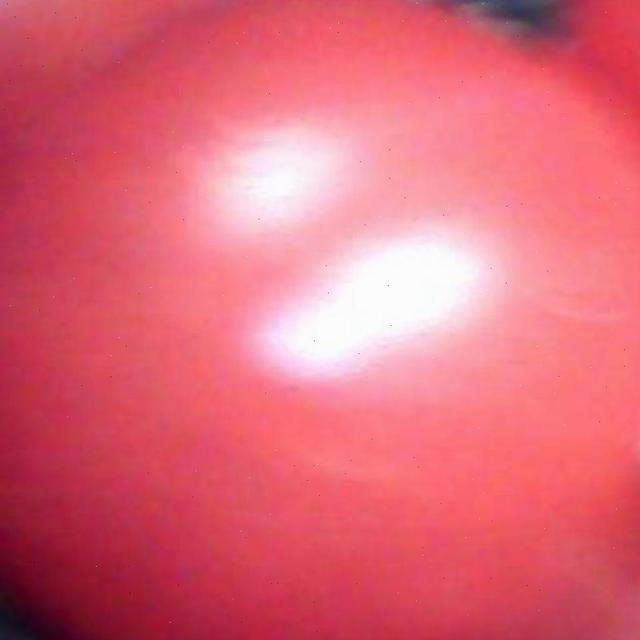Healthy Fruit: (4, 2, 427, 427)
